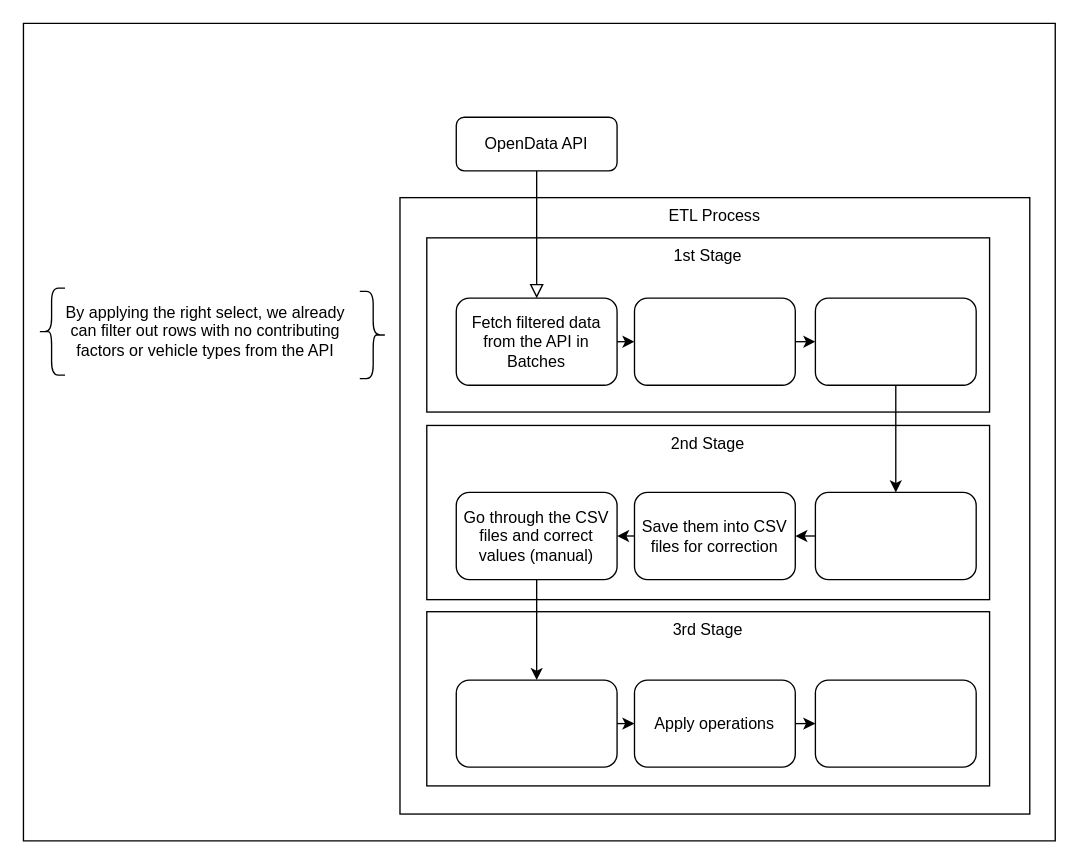
The diagram is 1079 pixels wide and 864 high, and some of its shapes have lost their labels. Each missing label, with the centre of its shape:
"Fetch Unique contributing factors and vehicle types from staging table" goes at (895,535).
"Insert Data into staging table" goes at (895,341).
"Insert data to dimension and fact tables" goes at (895,723).
"Load Data from Staging table" goes at (536,723).
"Remove white spaces from strings and substitute missing values" goes at (714,341).
